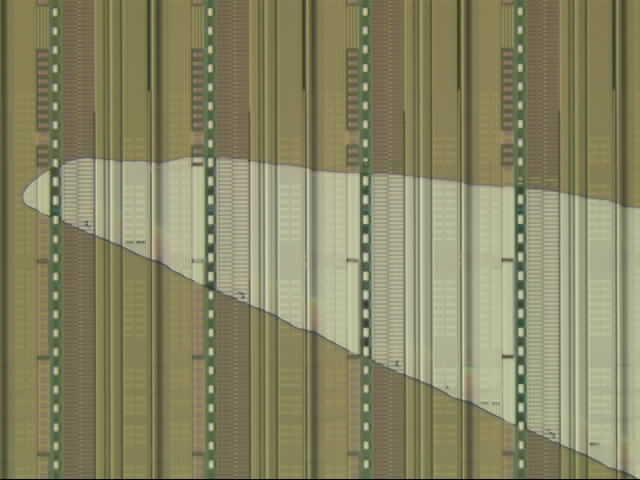COATING BAD: (18, 152, 640, 480)
